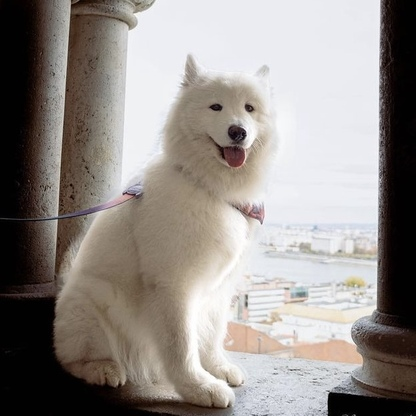samoyed: (48, 51, 283, 414)
